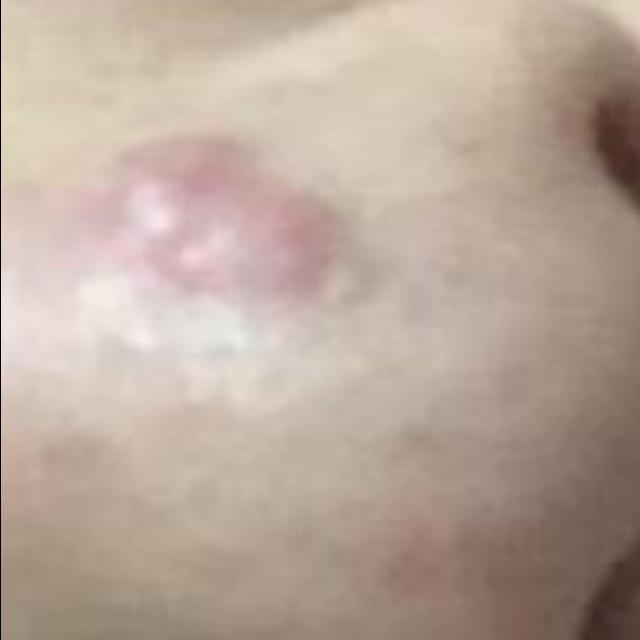nodule: (83, 114, 395, 331)
